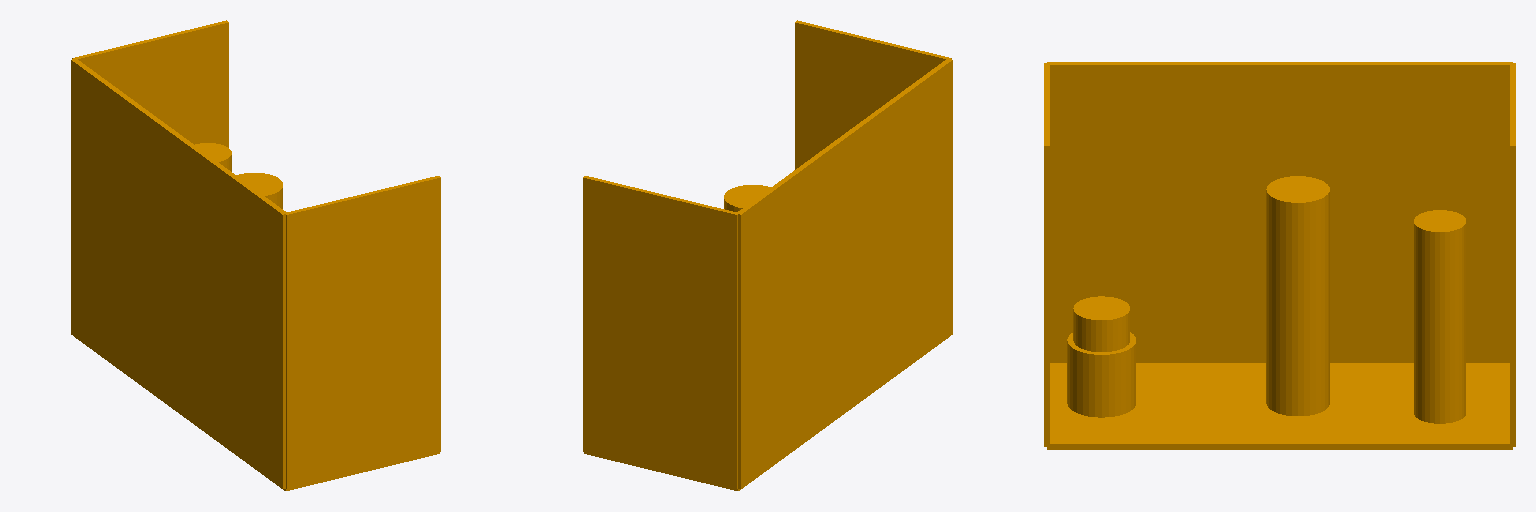
The robot description file, URDF, robot "syn_can_cabinet_291":
<?xml version="1.0" ?>
<robot name="syn_can_cabinet_291">
    <link concave="yes" name="base_link">
        <inertial>
            <origin rpy="0 0 0" xyz="0 0 0"/>
            <mass value="0.0"/>
            <inertia ixx="1e-08" ixy="0" ixz="0" iyy="1e-08" iyz="0" izz="1e-08"/>
        </inertial>
        <visual>
            <origin xyz="0 0 0" rpy="0 0 0" />
            <geometry>
                <mesh filename="syn_can_cabinet_291.obj" scale="1.000000 1.000000 1.000000"/>
            </geometry>         
        </visual>

        <collision concave="yes">
            <origin xyz="0 0 0" rpy="0 0 0"/>
            <geometry>
                <mesh filename="syn_can_cabinet_291.obj" scale="1.000000 1.000000 1.000000"/>
            </geometry>
        </collision>
    </link>
</robot>
    

--- What the picture shows (computed from the rendered views, not written in the file) ---
3 views of the same robot in one strip: view 1: azimuth 30°, elevation 25°; view 2: azimuth 150°, elevation 25°; view 3: azimuth 270°, elevation 25° (orthographic).
Model syn_can_cabinet_291 with 1 links and 0 joints (none), rooted at base_link, posed all joints at 0.
Links seen in each view (by area): view 1: base_link; view 2: base_link; view 3: base_link.
Boxes of the visible links, bbox=[...] form: base_link: bbox=[71, 20, 440, 490]; base_link: bbox=[583, 20, 952, 490]; base_link: bbox=[1044, 62, 1515, 449].
Size in the robot's own frame: 0.1681 by 0.3981 by 0.2841 metres.
1 mesh visuals loaded from 1 distinct referenced files (1 OBJ).
